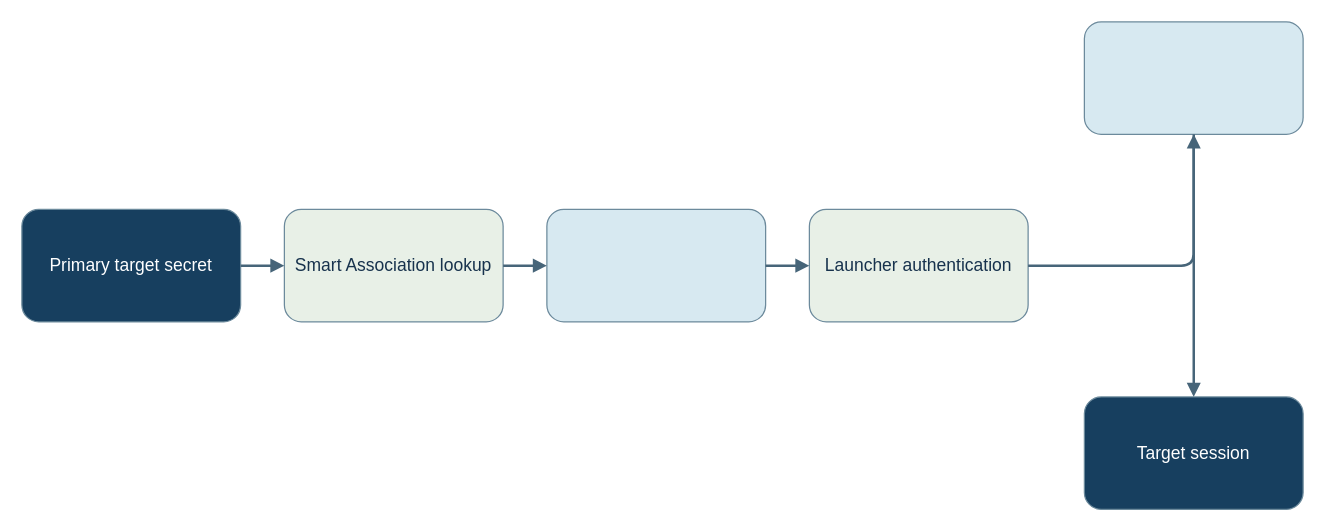
This 1325x531 diagram has some shape labels left out. The shapes that lost their labels are listed below. From the top down, each one's centre as x and y in pixels, then its label:
At pixel 1193 77: "Optional SSH account switch".
At pixel 656 265: "Associated credential secret".
